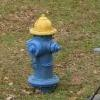a fire hydrant: (28, 14, 62, 88)
